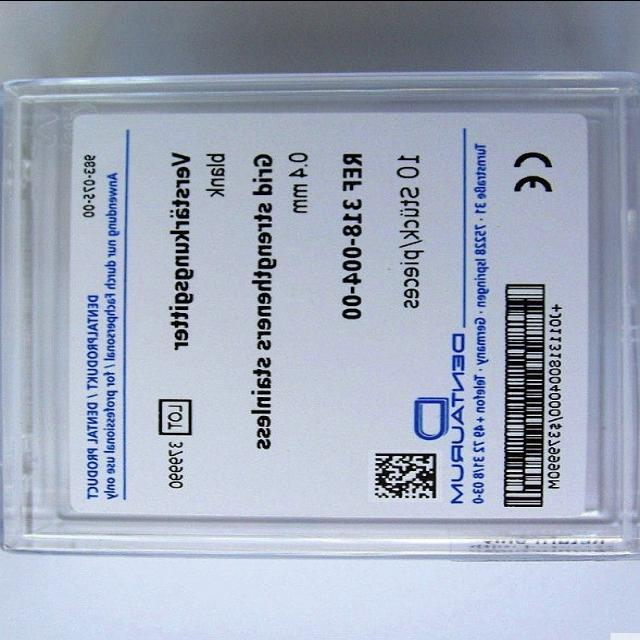Data-Matrix: (368, 449, 442, 501)
